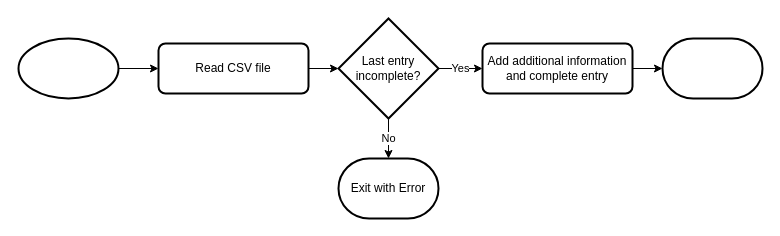
The diagram is 780 pixels wide and 236 high, and some of its shapes have lost their labels. Here are the shapes that lost their labels. From the top down, the box of each, then its label:
(17, 37, 119, 99): Clock Out
(661, 37, 763, 99): Exit
